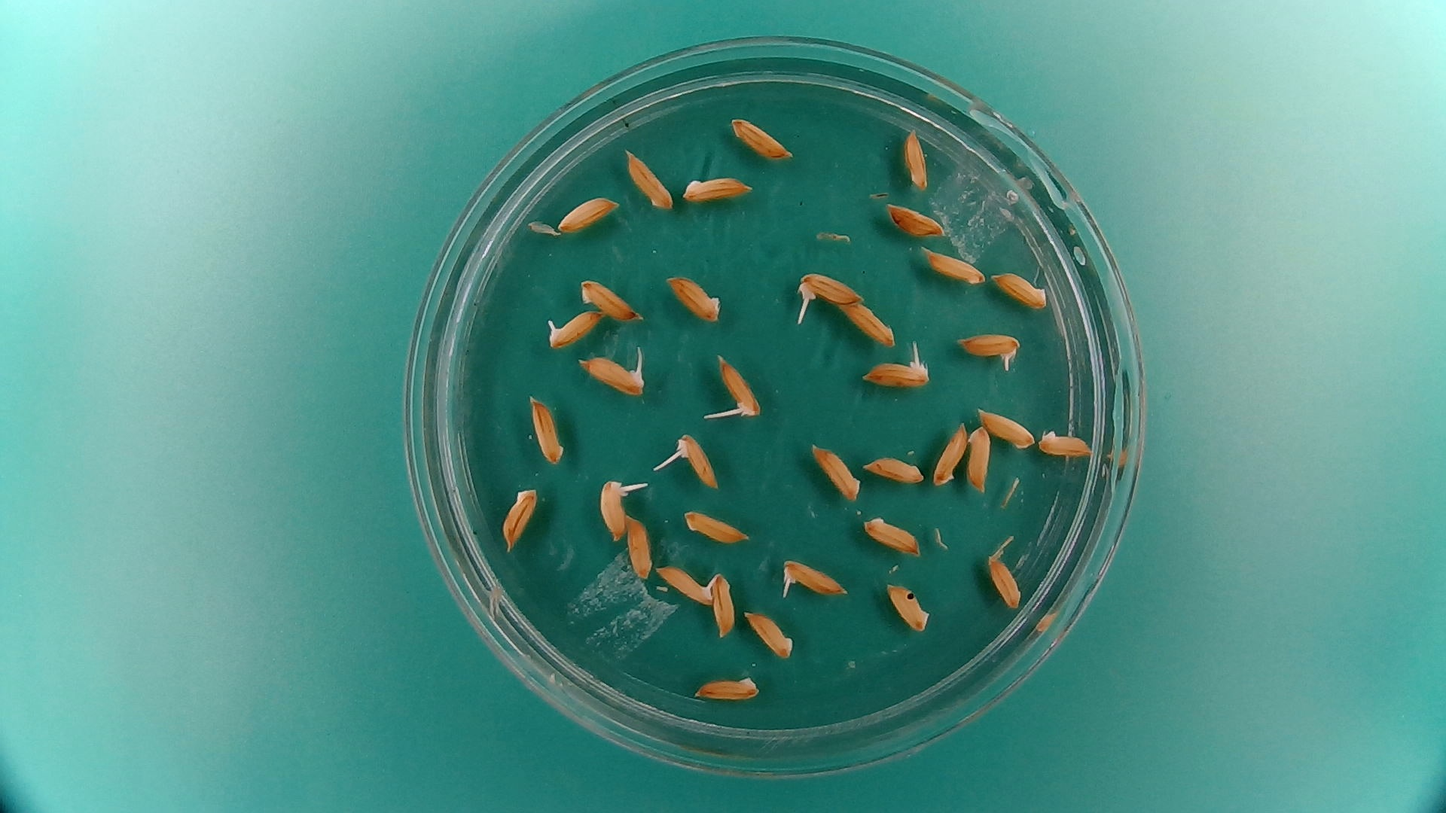no: (727, 114, 797, 163), (622, 147, 675, 211), (665, 272, 725, 324), (810, 441, 861, 502), (578, 276, 643, 323), (527, 392, 566, 467), (740, 608, 797, 659), (861, 349, 933, 389), (837, 299, 898, 346), (502, 480, 541, 553), (975, 406, 1038, 451), (920, 245, 986, 287), (555, 193, 621, 235), (930, 418, 969, 488), (861, 513, 924, 556), (883, 580, 932, 635), (682, 170, 757, 205), (990, 268, 1051, 311), (884, 200, 948, 240), (683, 507, 750, 545), (691, 669, 763, 702), (983, 551, 1022, 611), (1036, 425, 1097, 462), (860, 452, 925, 486), (900, 125, 930, 192), (625, 514, 654, 581), (964, 424, 991, 494), (712, 574, 737, 638)
yes: (714, 350, 764, 420), (654, 562, 717, 606), (543, 307, 604, 350), (786, 560, 851, 600), (679, 433, 721, 492), (578, 359, 644, 396), (596, 477, 630, 544), (801, 273, 866, 305), (956, 330, 1024, 359)
